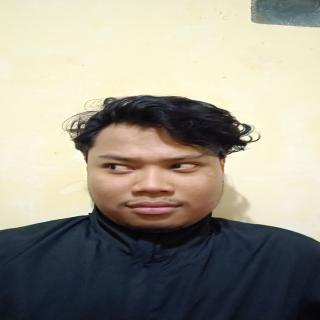Takut: (64, 115, 242, 235)
